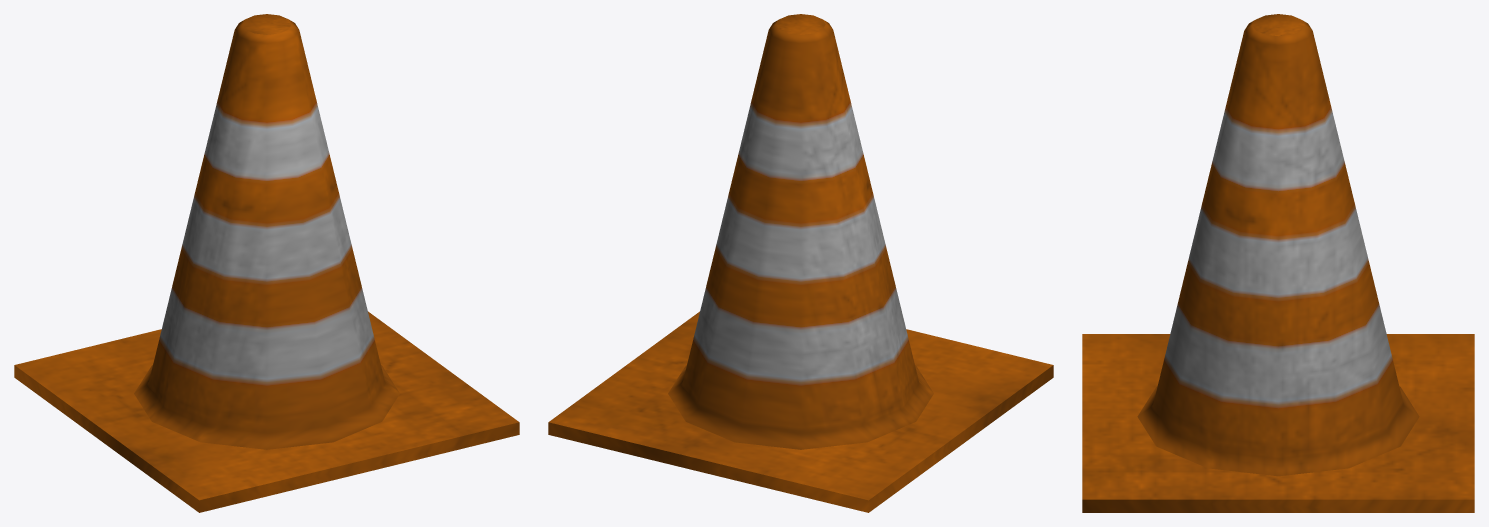
File: Traffic_Cone_Small_A.fbx
3 renders of one model, left to right at view 1: azimuth 30°, elevation 25°; view 2: azimuth 150°, elevation 25°; view 3: azimuth 270°, elevation 25°, orthographic. The views are drawn at different scales.
Parts seen in each view (by area): view 1: Cone_Small_A; view 2: Cone_Small_A; view 3: Cone_Small_A.
Boxes of the visible parts, bbox=[...] form: Cone_Small_A: bbox=[14, 14, 519, 512]; Cone_Small_A: bbox=[548, 14, 1053, 512]; Cone_Small_A: bbox=[1082, 14, 1474, 512].
Bounding box in the file's own units: 49.48 × 56.36 × 49.48.
